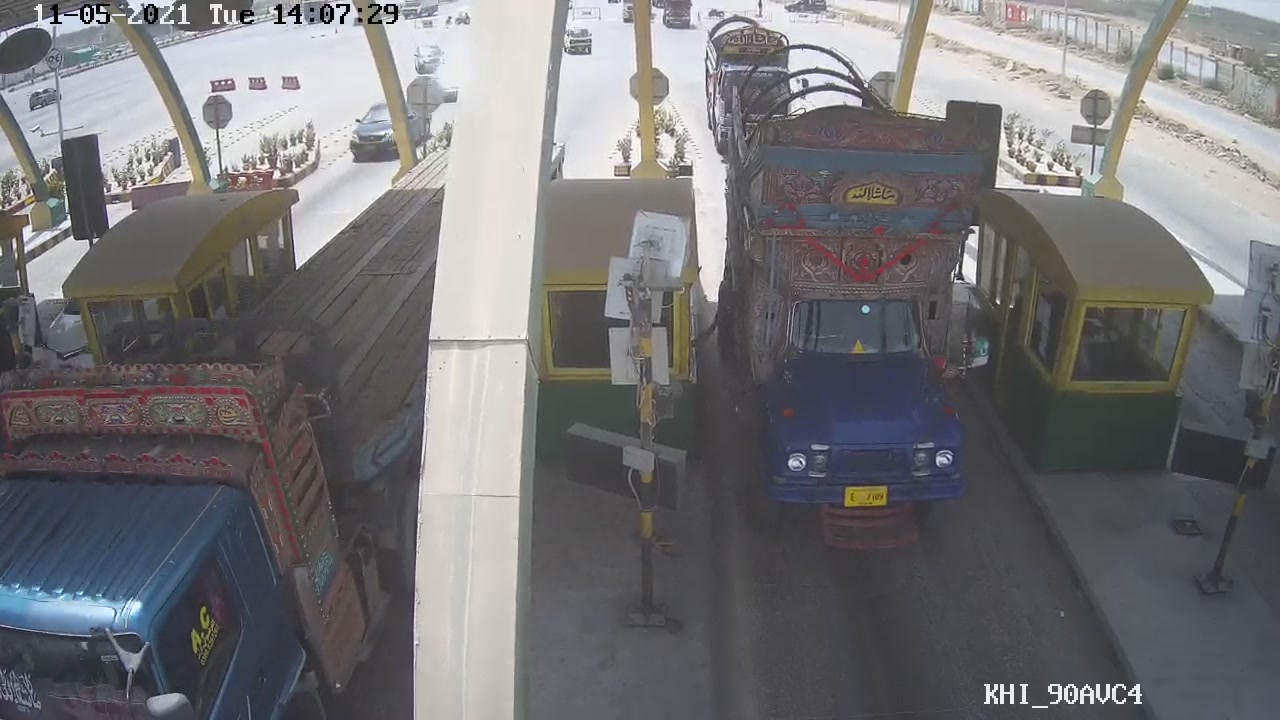F5: (718, 48, 1004, 559)
